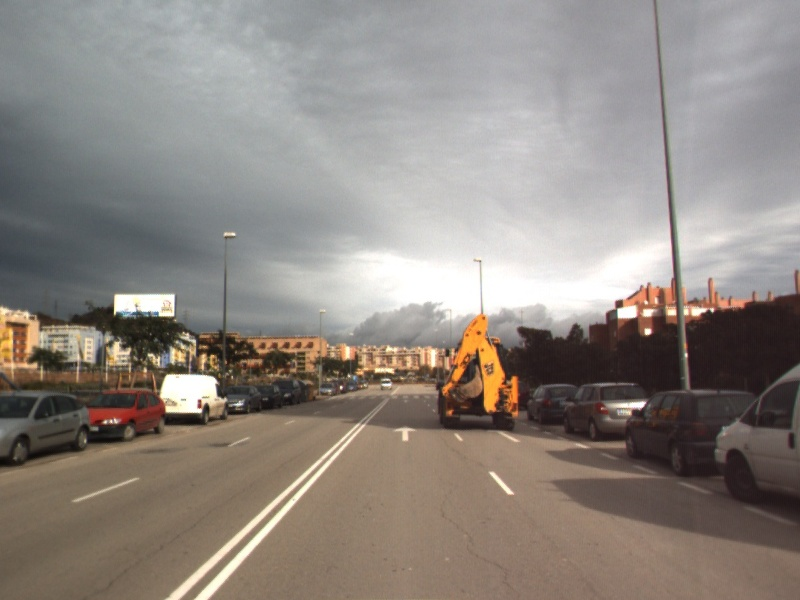STRAIGHT: (392, 423, 419, 443)
